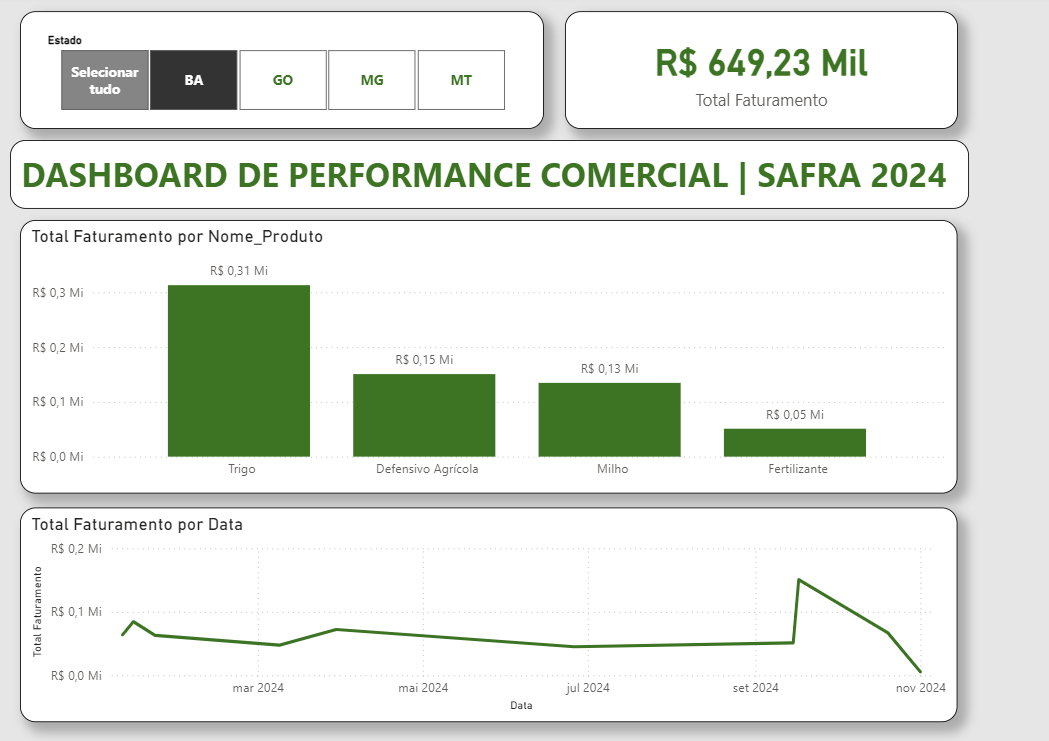

This screenshot's page, from the dashboard's own definition file:
{"tool":"powerbi","page":{"name":"Página 1","canvas":[1280,720],"ordinal":0},"visuals":[{"type":"card","fields":{"Values":["fVendas.Total Faturamento"]},"box":[748,15.7,378.8,113.4],"z":0},{"type":"columnChart","fields":{"Category":["dProdutos.Nome_Produto"],"Y":["fVendas.Total Faturamento"]},"box":[222,217.2,904.8,264.2],"z":1000},{"type":"slicer","fields":{"Values":["dClientes.Estado"]},"box":[222,15.7,505.5,113.4],"z":2000},{"type":"lineChart","fields":{"Y":["fVendas.Total Faturamento"],"Category":["fVendas.Data"]},"box":[222,494.6,904.8,207.5],"z":3000},{"type":"textbox","box":[212.3,139.9,925.3,66.4],"z":4000}]}

Visuals, with their boxes in screenshot pixels (x1, y1, x2, y2):
card - fVendas.Total Faturamento: <bbox>625, 41, 954, 139</bbox>
columnChart - dProdutos.Nome_Produto x fVendas.Total Faturamento: <bbox>168, 216, 954, 446</bbox>
slicer - dClientes.Estado: <bbox>168, 41, 607, 139</bbox>
lineChart - fVendas.Total Faturamento x fVendas.Data: <bbox>168, 457, 954, 637</bbox>
textbox: <bbox>160, 149, 964, 207</bbox>
